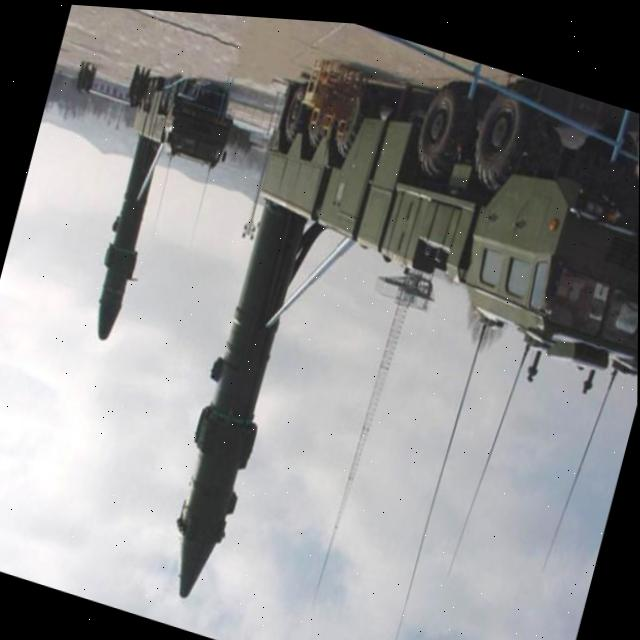missile: (138, 196, 316, 614), (62, 78, 189, 358)
